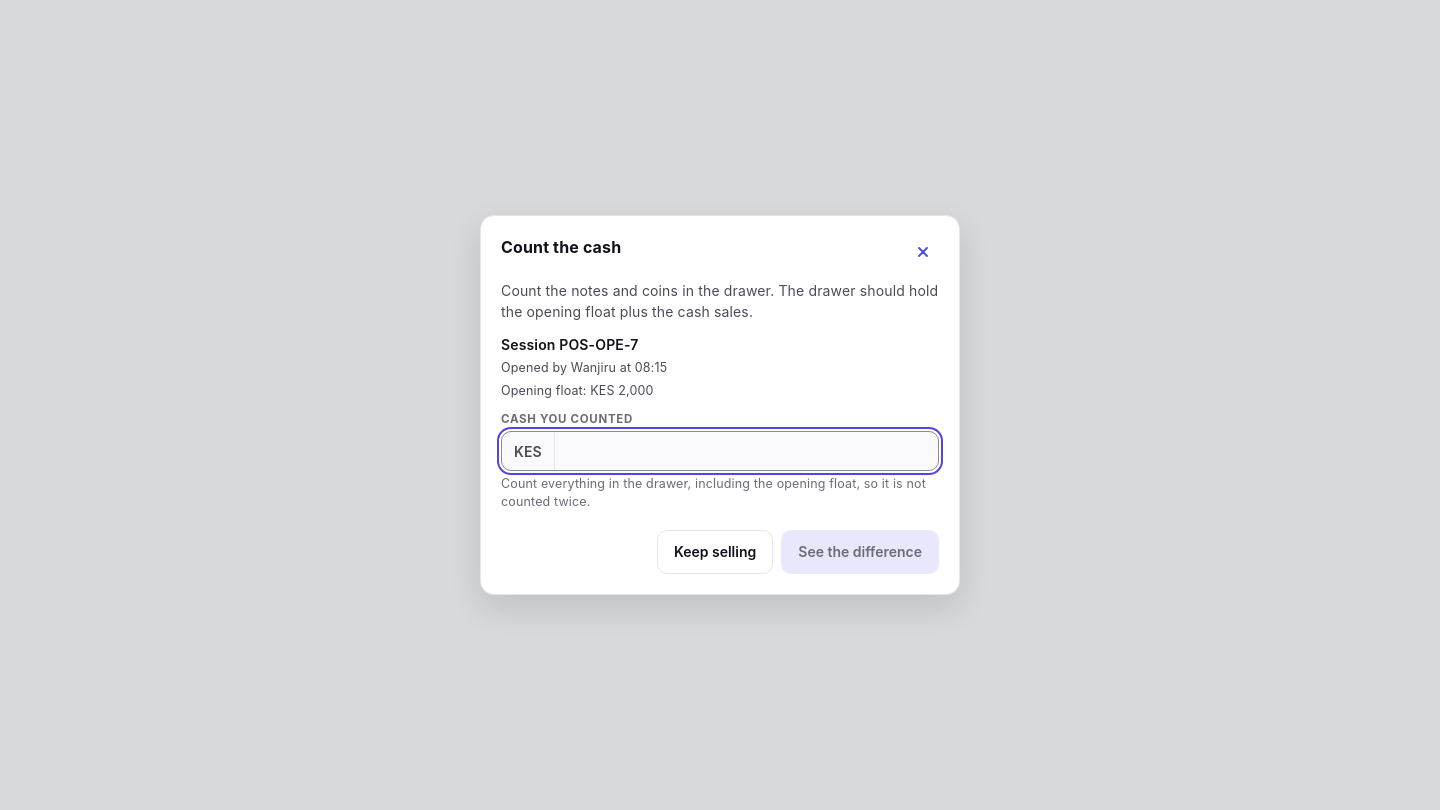
Test: the shift-end count dialog › a matching count shows a check icon and "Matches"
The image size is (1440, 810).
Type "5500" into the field labelled "Cash you counted". click: x=746, y=451
box: 555,432 -> 938,470
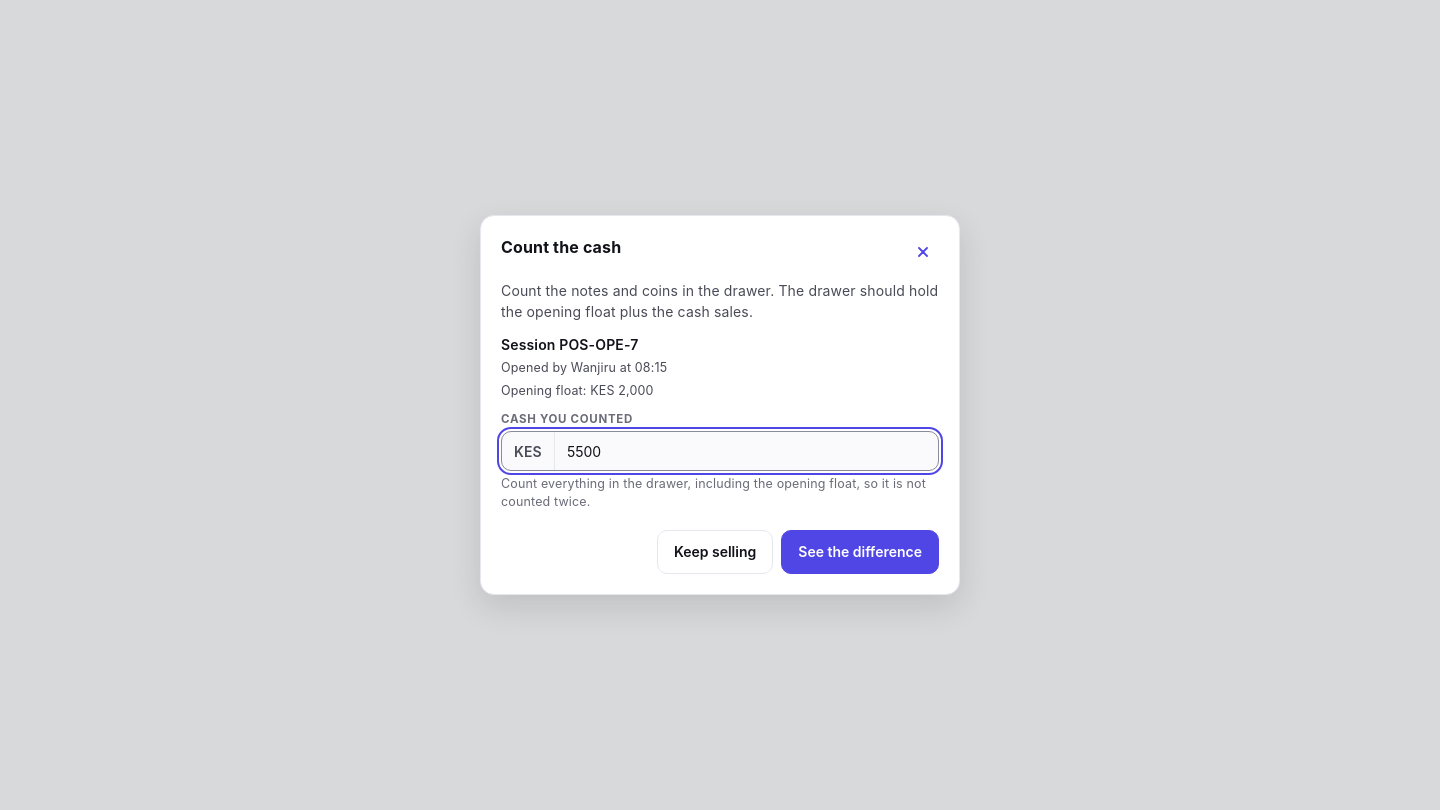
Click the button "See the difference". click: x=860, y=552
box: 781,530 -> 939,574
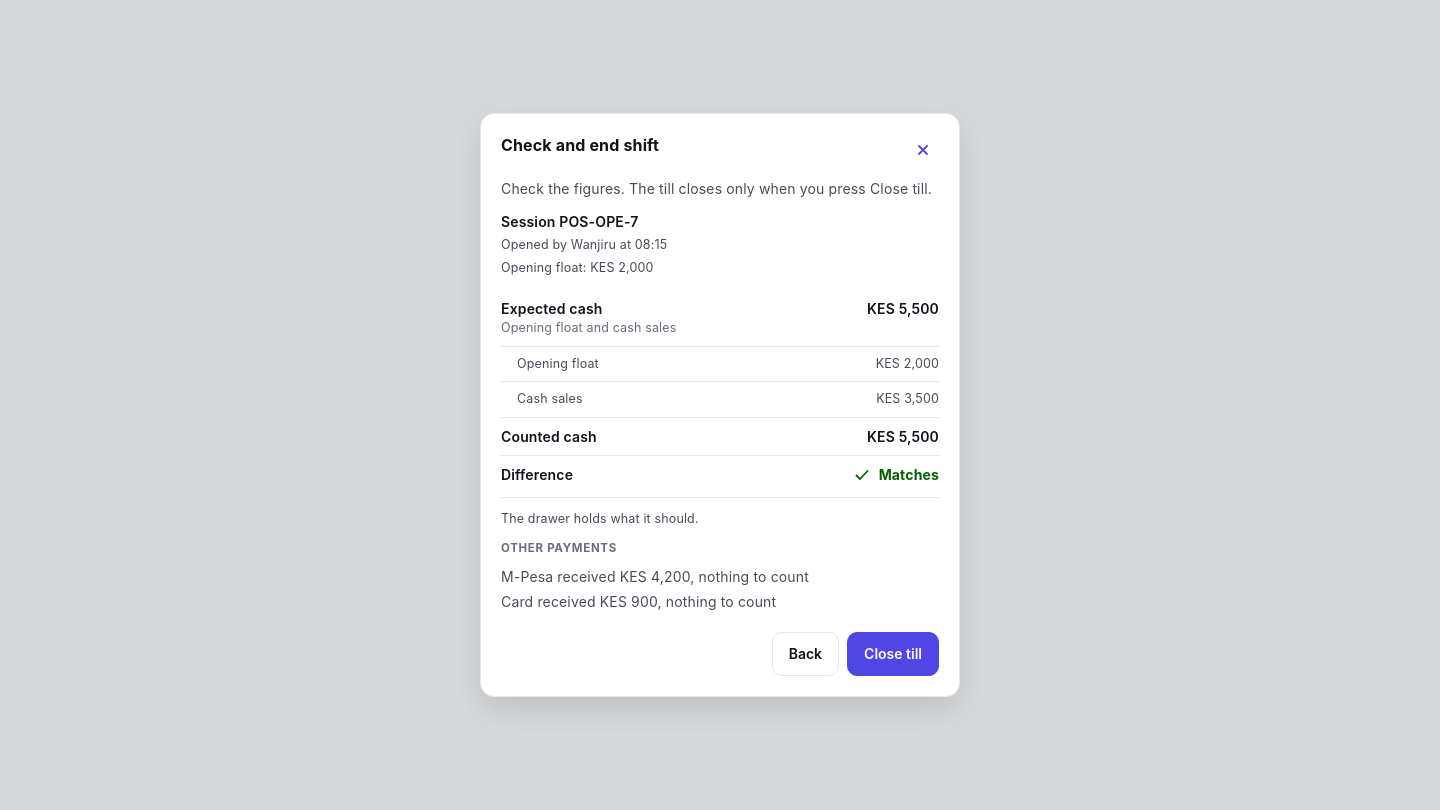
Check: the icon next to "Matches" is shown, box 853,466 -> 871,484
